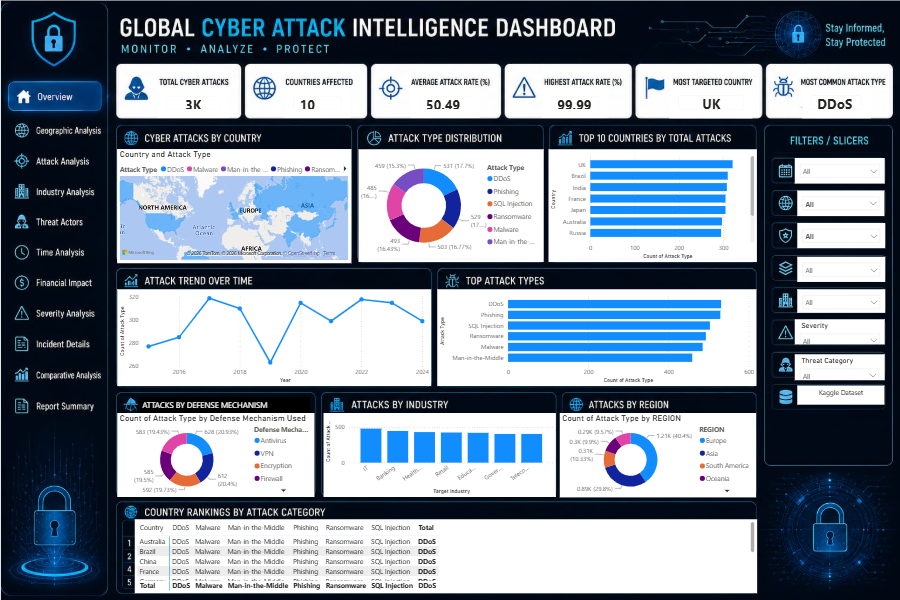

Layout of this report page (visuals, bound fields, positions):
{"tool":"powerbi","page":{"name":"Page 1","canvas":[1800,1300],"ordinal":0},"visuals":[{"type":"cardVisual","fields":{"Data":["Global_Cybersecurity_Threats_20.Total Attacks"]},"box":[313.3,220,143.3,60],"z":0},{"type":"cardVisual","fields":{"Data":["Global_Cybersecurity_Threats_20.Countries Affected"]},"box":[566.7,220,131.7,60],"z":1000},{"type":"cardVisual","fields":{"Data":["Global_Cybersecurity_Threats_20.Average Financial Loss"]},"box":[820,220,136.7,60],"z":2000},{"type":"cardVisual","fields":{"Data":["Global_Cybersecurity_Threats_20.Highest Financial Loss"]},"box":[1081.7,220,131.7,60],"z":3000},{"type":"cardVisual","fields":{"Data":["Global_Cybersecurity_Threats_20.Most Targeted country"]},"box":[1336.7,216.7,165,63.3],"z":4000},{"type":"cardVisual","fields":{"Data":["Global_Cybersecurity_Threats_20.Most common attack type"]},"box":[1603.3,216.7,136.7,63.3],"z":5000},{"type":"filledMap","fields":{"Category":["Global_Cybersecurity_Threats_20.Country"],"Series":["Global_Cybersecurity_Threats_20.Attack Type"]},"box":[231.7,341.7,466.7,225],"z":6000},{"type":"donutChart","fields":{"Category":["Global_Cybersecurity_Threats_20.Attack Type"],"Y":["CountNonNull(Global_Cybersecurity_Threats_20.Attack Type)"]},"box":[714.3,341.4,370,225.7],"z":7000},{"type":"clusteredBarChart","fields":{"Category":["Global_Cybersecurity_Threats_20.Country"],"Y":["CountNonNull(Global_Cybersecurity_Threats_20.Attack Type)"]},"box":[1095.7,341.4,417.1,225.7],"z":8000},{"type":"lineChart","fields":{"Category":["Global_Cybersecurity_Threats_20.Year"],"Y":["CountNonNull(Global_Cybersecurity_Threats_20.Attack Type)"]},"box":[231.7,623.3,628.3,193.3],"z":9000},{"type":"clusteredBarChart","fields":{"Y":["CountNonNull(Global_Cybersecurity_Threats_20.Attack Type)"],"Category":["Global_Cybersecurity_Threats_20.Attack Type"]},"box":[873.3,623.3,638.3,193.3],"z":10000},{"type":"clusteredColumnChart","fields":{"Category":["Global_Cybersecurity_Threats_20.Target Industry"],"Y":["CountNonNull(Global_Cybersecurity_Threats_20.Attack Type)"]},"box":[645,870,465,168.3],"z":11000},{"type":"textbox","box":[277.9,837.1,340.7,32.9],"z":12000},{"type":"donutChart","fields":{"Category":["Global_Cybersecurity_Threats_20.Defense Mechanism Used"],"Y":["CountNonNull(Global_Cybersecurity_Threats_20.Attack Type)"]},"box":[231.8,870,394.5,168.2],"z":13000},{"type":"donutChart","fields":{"Y":["CountNonNull(Global_Cybersecurity_Threats_20.Attack Type)"],"Category":["Global_Cybersecurity_Threats_20.REGION"]},"box":[1118.6,870,392.9,168.6],"z":14000},{"type":"pivotTable","fields":{"Rows":["Global_Cybersecurity_Threats_20.Country"],"Columns":["Global_Cybersecurity_Threats_20.Attack Type"],"Values":["Min(Global_Cybersecurity_Threats_20.Attack Type)"]},"box":[266.7,1083.3,1245,148.3],"z":15000},{"type":"actionButton","box":[0,0,100,40],"z":16000},{"type":"slicer","fields":{"Values":["Global_Cybersecurity_Threats_20.Country"]},"box":[1592.9,425.7,174.3,51.4],"z":17000},{"type":"slicer","fields":{"Values":["Global_Cybersecurity_Threats_20.Attack Type"]},"box":[1591.4,490,175.7,50],"z":18000},{"type":"slicer","fields":{"Values":["Global_Cybersecurity_Threats_20.Threat Category"]},"box":[1591.4,557.1,175.7,50],"z":19000},{"type":"slicer","fields":{"Values":["Global_Cybersecurity_Threats_20.Year"]},"box":[1587.1,360,180,51.4],"z":20000},{"type":"slicer","fields":{"Values":["Global_Cybersecurity_Threats_20.Target Industry"]},"box":[1591.4,622.9,175.7,47.1],"z":21000},{"type":"slicer","fields":{"Values":["Global_Cybersecurity_Threats_20.Severity"]},"box":[1587.1,681.4,180,50],"z":22000},{"type":"slicer","fields":{"Values":["Global_Cybersecurity_Threats_20.Threat Category"]},"box":[1588.6,751.4,178.6,51.4],"z":23000},{"type":"textbox","box":[1592.9,815.7,174.3,38.6],"z":24000},{"type":"filledMap","fields":{"Series":["Global_Cybersecurity_Threats_20.Attack Type"],"Category":["Global_Cybersecurity_Threats_20.Country"]},"box":[232,342,466,226],"z":25000}]}

Visuals, with their boxes in screenshot pixels (x1, y1, x2, y2):
cardVisual - Global_Cybersecurity_Threats_20.Total Attacks: box=[167, 89, 237, 118]
cardVisual - Global_Cybersecurity_Threats_20.Countries Affected: box=[291, 89, 356, 118]
cardVisual - Global_Cybersecurity_Threats_20.Average Financial Loss: box=[415, 89, 482, 118]
cardVisual - Global_Cybersecurity_Threats_20.Highest Financial Loss: box=[543, 89, 608, 118]
cardVisual - Global_Cybersecurity_Threats_20.Most Targeted country: box=[668, 87, 749, 118]
cardVisual - Global_Cybersecurity_Threats_20.Most common attack type: box=[798, 87, 865, 118]
filledMap - Global_Cybersecurity_Threats_20.Country x Global_Cybersecurity_Threats_20.Attack Type: box=[127, 148, 356, 258]
donutChart - Global_Cybersecurity_Threats_20.Attack Type x CountNonNull(Global_Cybersecurity_Threats_20.Attack Type): box=[364, 148, 545, 259]
clusteredBarChart - Global_Cybersecurity_Threats_20.Country x CountNonNull(Global_Cybersecurity_Threats_20.Attack Type): box=[550, 148, 754, 259]
lineChart - Global_Cybersecurity_Threats_20.Year x CountNonNull(Global_Cybersecurity_Threats_20.Attack Type): box=[127, 286, 435, 381]
clusteredBarChart - CountNonNull(Global_Cybersecurity_Threats_20.Attack Type) x Global_Cybersecurity_Threats_20.Attack Type: box=[441, 286, 754, 381]
clusteredColumnChart - Global_Cybersecurity_Threats_20.Target Industry x CountNonNull(Global_Cybersecurity_Threats_20.Attack Type): box=[330, 407, 557, 489]
textbox: box=[150, 391, 317, 407]
donutChart - Global_Cybersecurity_Threats_20.Defense Mechanism Used x CountNonNull(Global_Cybersecurity_Threats_20.Attack Type): box=[127, 407, 320, 489]
donutChart - CountNonNull(Global_Cybersecurity_Threats_20.Attack Type) x Global_Cybersecurity_Threats_20.REGION: box=[561, 407, 754, 489]
pivotTable - Global_Cybersecurity_Threats_20.Country x Global_Cybersecurity_Threats_20.Attack Type: box=[145, 511, 754, 584]
actionButton: box=[14, 0, 63, 1]
slicer - Global_Cybersecurity_Threats_20.Country: box=[793, 190, 879, 215]
slicer - Global_Cybersecurity_Threats_20.Attack Type: box=[793, 221, 879, 245]
slicer - Global_Cybersecurity_Threats_20.Threat Category: box=[793, 254, 879, 278]
slicer - Global_Cybersecurity_Threats_20.Year: box=[791, 157, 879, 183]
slicer - Global_Cybersecurity_Threats_20.Target Industry: box=[793, 286, 879, 309]
slicer - Global_Cybersecurity_Threats_20.Severity: box=[791, 315, 879, 339]
slicer - Global_Cybersecurity_Threats_20.Threat Category: box=[791, 349, 879, 374]
textbox: box=[793, 380, 879, 399]
filledMap - Global_Cybersecurity_Threats_20.Attack Type x Global_Cybersecurity_Threats_20.Country: box=[128, 149, 356, 259]
